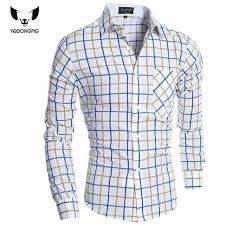squared: (41, 4, 210, 220)
